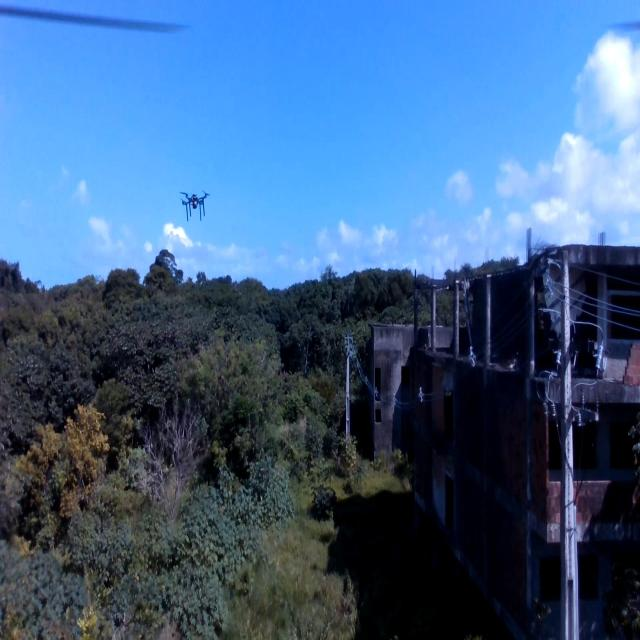-uav-: (175, 178, 214, 228)
